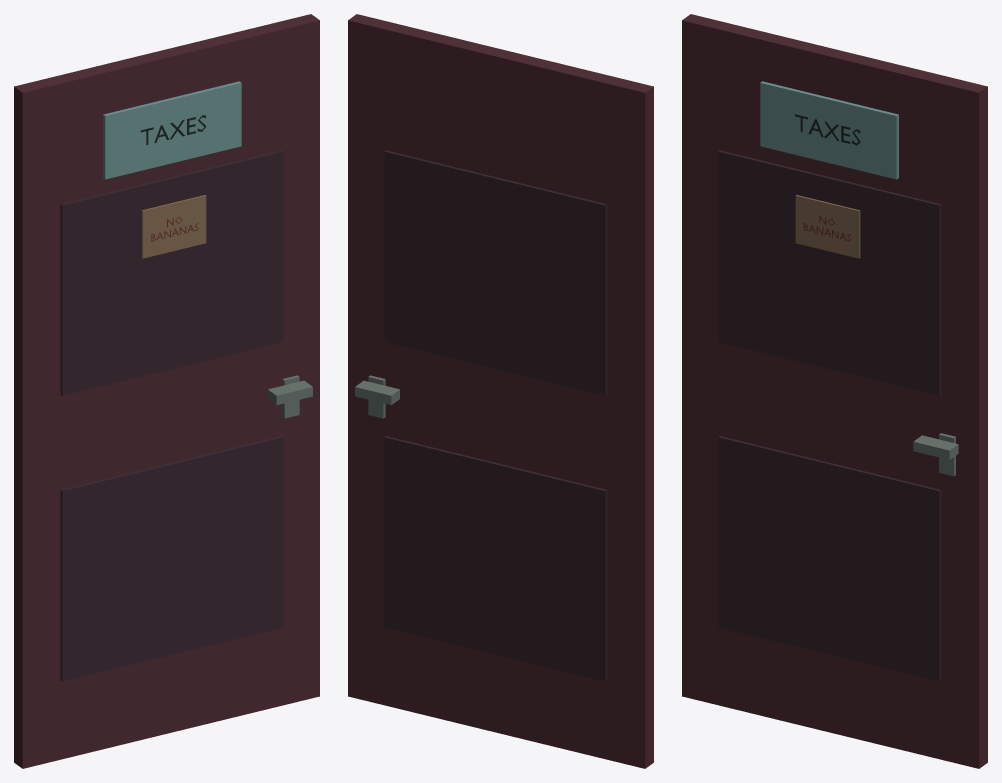
File: usa_taxe.glb
3 renders of one model, left to right at view 1: azimuth 30°, elevation 25°; view 2: azimuth 150°, elevation 25°; view 3: azimuth 330°, elevation 25°, orthographic.
Visible parts, largest first — view 1: Usa; view 2: Usa; view 3: Usa.
Boxes of the visible parts, x1,y1,x2,y2 form: Usa: (14,14,319,768); Usa: (348,14,653,768); Usa: (682,14,987,768).
Bounding box in the file's own units: 0.98 × 2.13 × 0.178.
